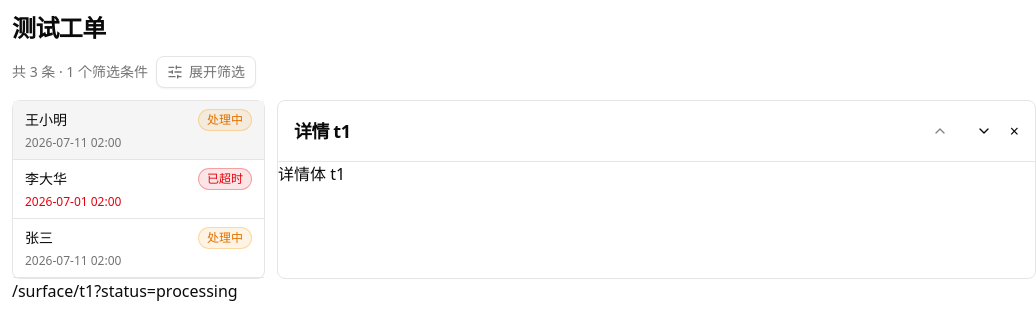
Test case: 窄列 › 点窄列行切单，选中行有 aria-current，筛选串随车带走
Expected: the element named "工单详情" shows "详情 t1", x1=294 y1=119 x2=350 y2=143
Click the text "张三" at (39, 238), box x1=25 y1=228 x2=53 y2=248
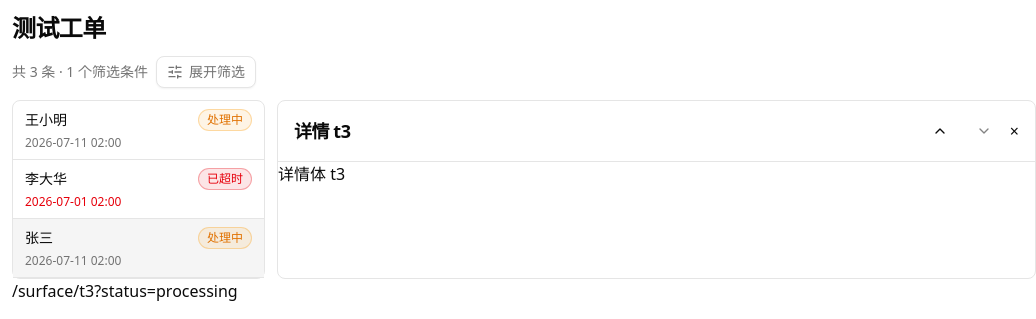
Expected: the element named "工单详情" shows "详情 t3", x1=294 y1=119 x2=350 y2=143
Expected: the text with test id "location" reads "/surface/t3?status=processing", x1=12 y1=280 x2=238 y2=302
